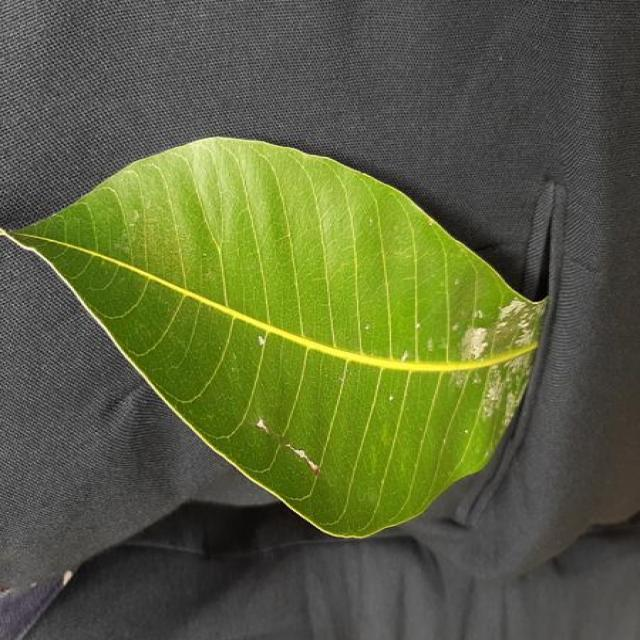Phoma blight: (402, 296, 545, 427)
mango: (7, 139, 545, 537)
